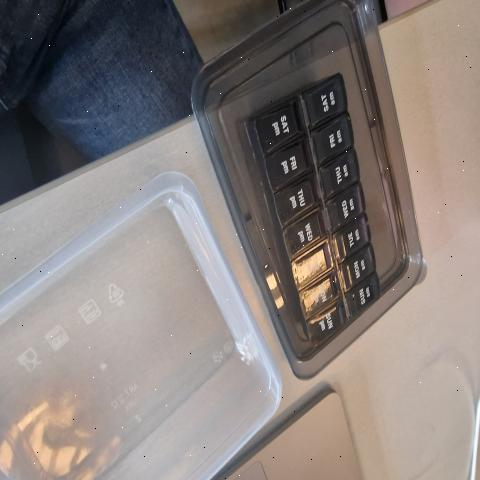PillBox: (222, 64, 388, 356)
